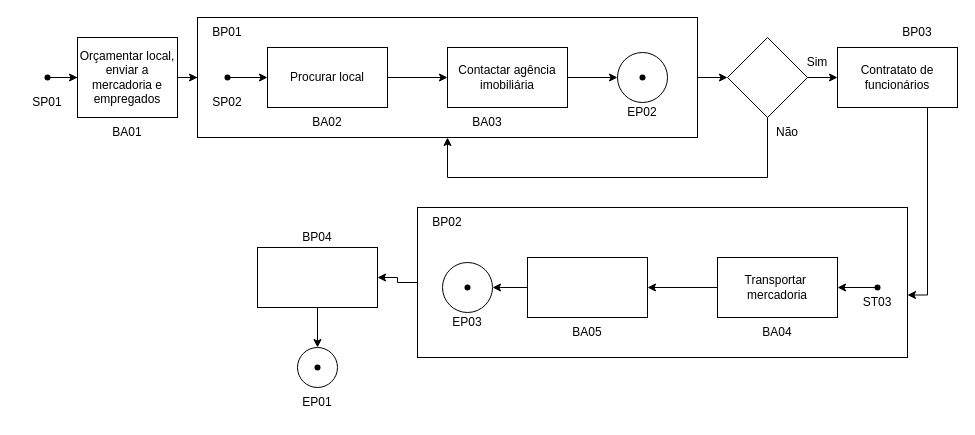
Image size: 975x435. Some labels were removed from this diagram. The centre of each missing label's shape, as x and y in pixels:
DP01 Aceite?: the point at 767,77
Gestão da filial: the point at 317,277
Receber mercadoria: the point at 587,287
